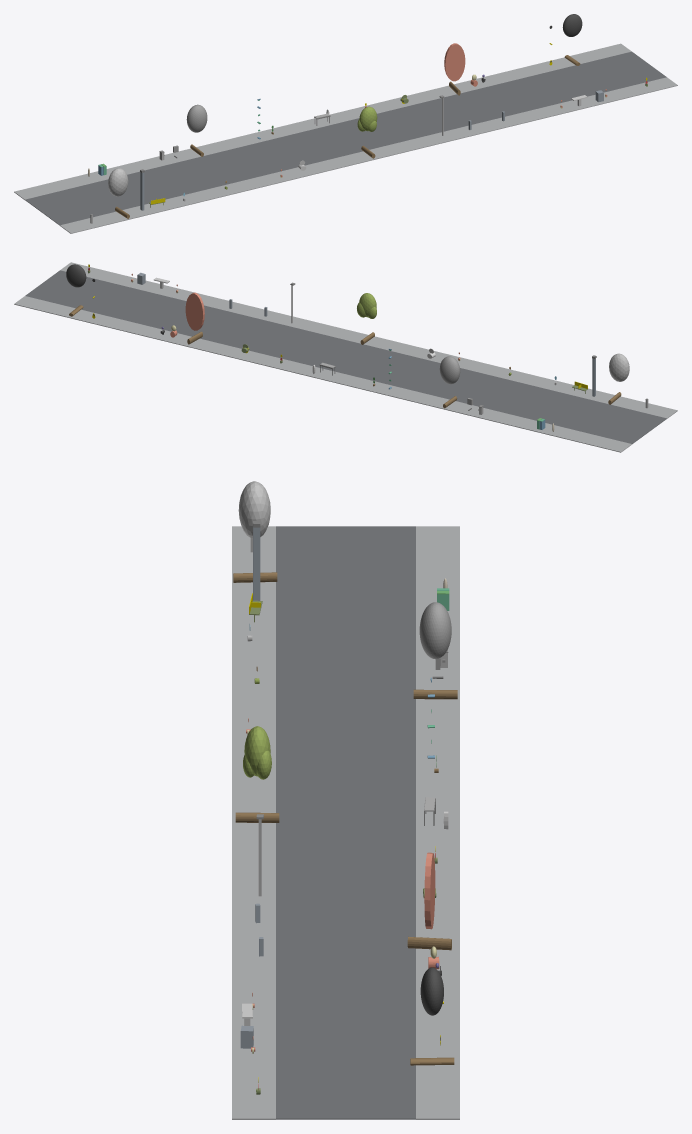
The picture shows the model from 3 angles, top to bottom: view 1: azimuth 30°, elevation 25°; view 2: azimuth 150°, elevation 25°; view 3: azimuth 270°, elevation 25°; orthographic projection. The views are drawn at different scales.
Visible parts, largest first — view 1: road_slab, sidewalk_left, sidewalk_right, inst_0015, inst_0012, inst_0013, inst_0014, inst_0016; view 2: road_slab, sidewalk_right, sidewalk_left, inst_0015, inst_0012, inst_0013, inst_0014, inst_0016; view 3: road_slab, sidewalk_left, sidewalk_right, inst_0013, inst_0012, inst_0014, inst_0015, inst_0016.
Boxes of the visible parts, <box> form: road_slab: <box>25,51,666,225</box>; sidewalk_left: <box>60,77,677,233</box>; sidewalk_right: <box>14,43,631,199</box>; inst_0015: <box>444,43,465,95</box>; inst_0012: <box>108,168,129,218</box>; inst_0013: <box>186,104,207,156</box>; inst_0014: <box>357,106,377,158</box>; inst_0016: <box>562,14,582,65</box>; road_slab: <box>25,270,666,444</box>; sidewalk_right: <box>14,296,631,452</box>; sidewalk_left: <box>60,262,677,418</box>; inst_0015: <box>185,292,204,344</box>; inst_0012: <box>608,353,629,404</box>; inst_0013: <box>439,356,460,408</box>; inst_0014: <box>357,293,376,344</box>; inst_0016: <box>66,264,86,316</box>; road_slab: <box>276,526,415,1119</box>; sidewalk_left: <box>232,526,275,1119</box>; sidewalk_right: <box>416,526,459,1119</box>; inst_0013: <box>413,602,457,699</box>; inst_0012: <box>233,481,277,582</box>; inst_0014: <box>235,726,279,822</box>; inst_0015: <box>407,852,451,950</box>; inst_0016: <box>410,967,454,1065</box>.
Bounding box in the file's own units: 80 × 6.08 × 13.
